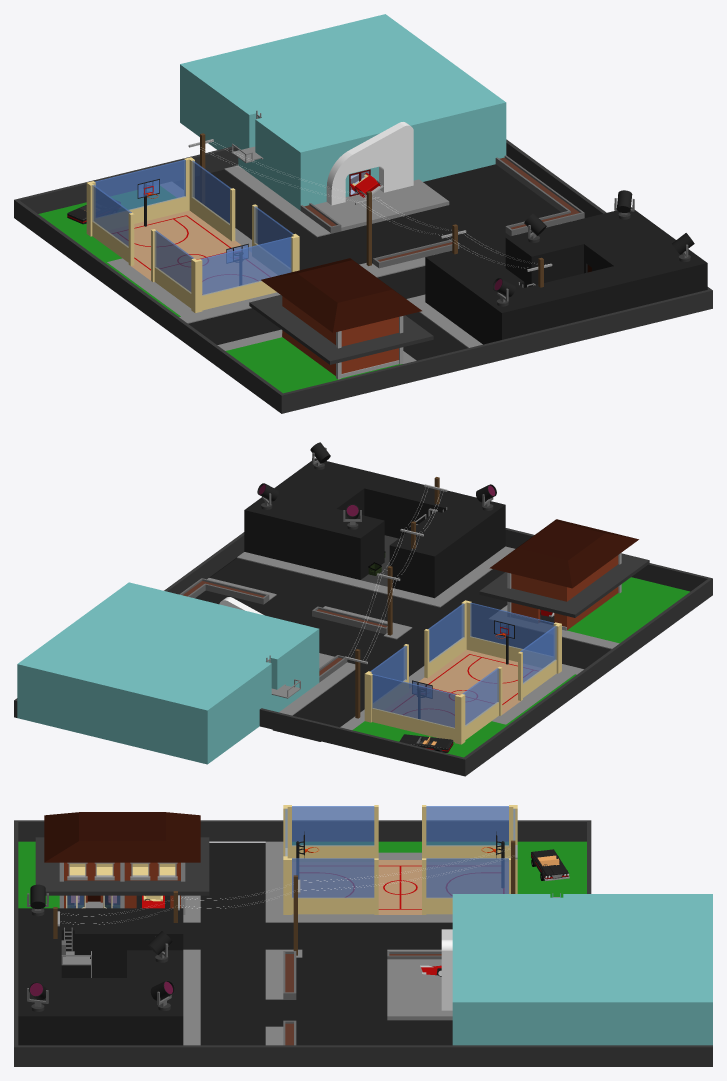
Rendered from Boxed In level.fbx.
3 renders of one model, top to bottom at view 1: azimuth 30°, elevation 25°; view 2: azimuth 150°, elevation 25°; view 3: azimuth 270°, elevation 25°, orthographic. The views are drawn at different scales.
Parts seen in each view (by area): view 1: Model; view 2: Model; view 3: Model.
Boxes of the visible parts, <box> form: Model: <box>14,14,712,413</box>; Model: <box>14,442,712,776</box>; Model: <box>14,805,712,1066</box>.
Bounding box in the file's own units: 123750 × 20250 × 161000.
